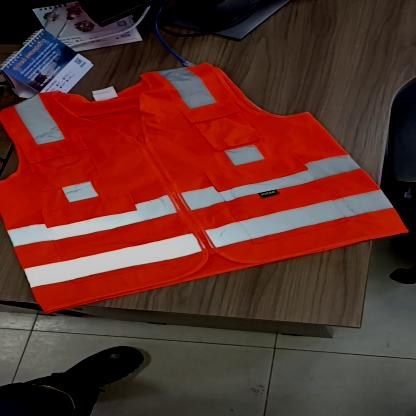colete: (5, 63, 416, 318)
